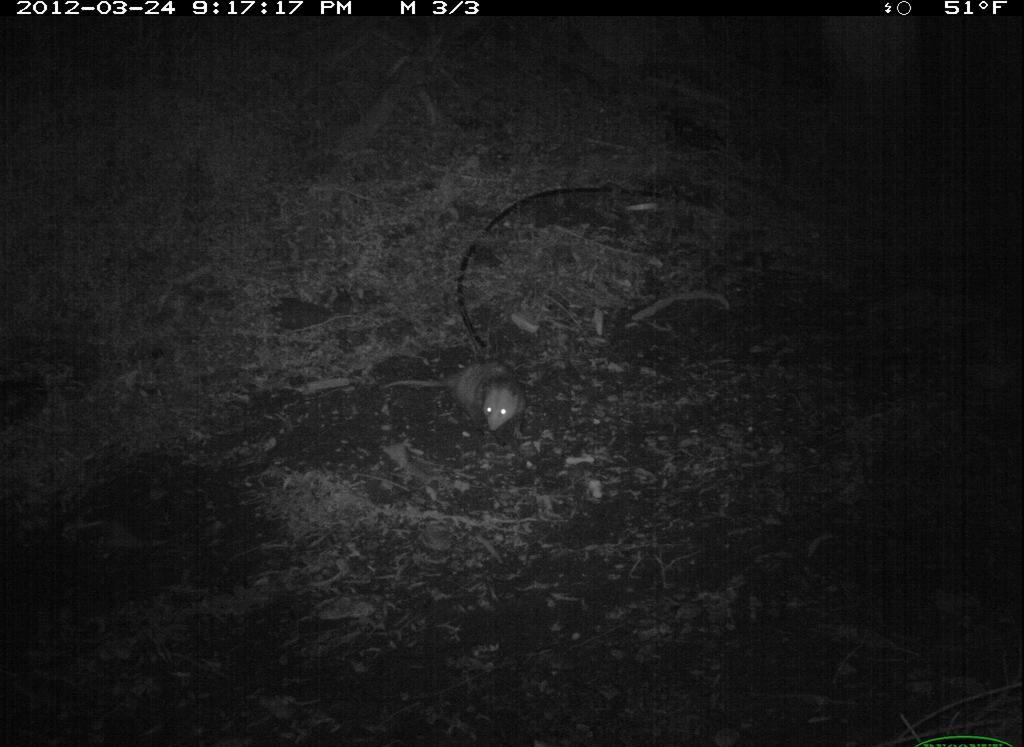opossum: (383, 359, 536, 441)
